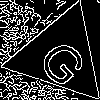G: (35, 30, 98, 91)
